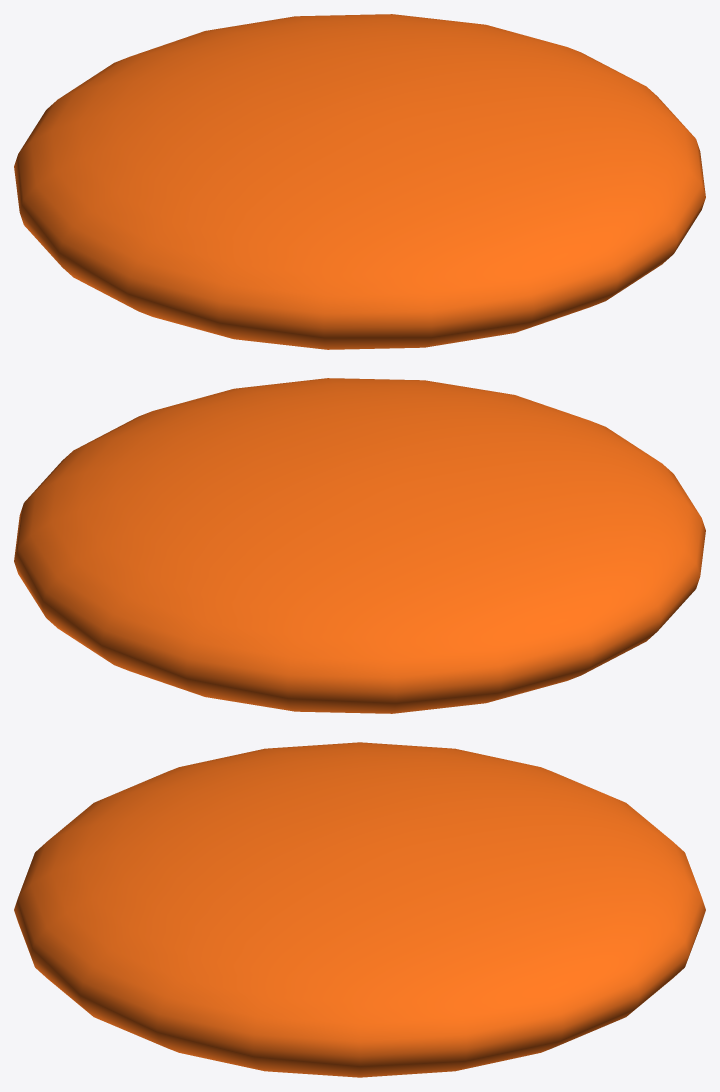
Rendered from GameBall.obj.
3 renders of one model, top to bottom at view 1: azimuth 30°, elevation 25°; view 2: azimuth 150°, elevation 25°; view 3: azimuth 270°, elevation 25°, orthographic.
Parts seen in each view (by area): view 1: ball_model_001:Ball_mesh rotate_geo GEO BALL_RIG; view 2: ball_model_001:Ball_mesh rotate_geo GEO BALL_RIG; view 3: ball_model_001:Ball_mesh rotate_geo GEO BALL_RIG.
Boxes of the visible parts, left/top/right/bottom form: ball_model_001:Ball_mesh rotate_geo GEO BALL_RIG: left=14, top=14, right=705, bottom=349; ball_model_001:Ball_mesh rotate_geo GEO BALL_RIG: left=14, top=378, right=705, bottom=713; ball_model_001:Ball_mesh rotate_geo GEO BALL_RIG: left=14, top=742, right=705, bottom=1077.
Size of the model in its own units: 3.9 by 1.02 by 3.9.
